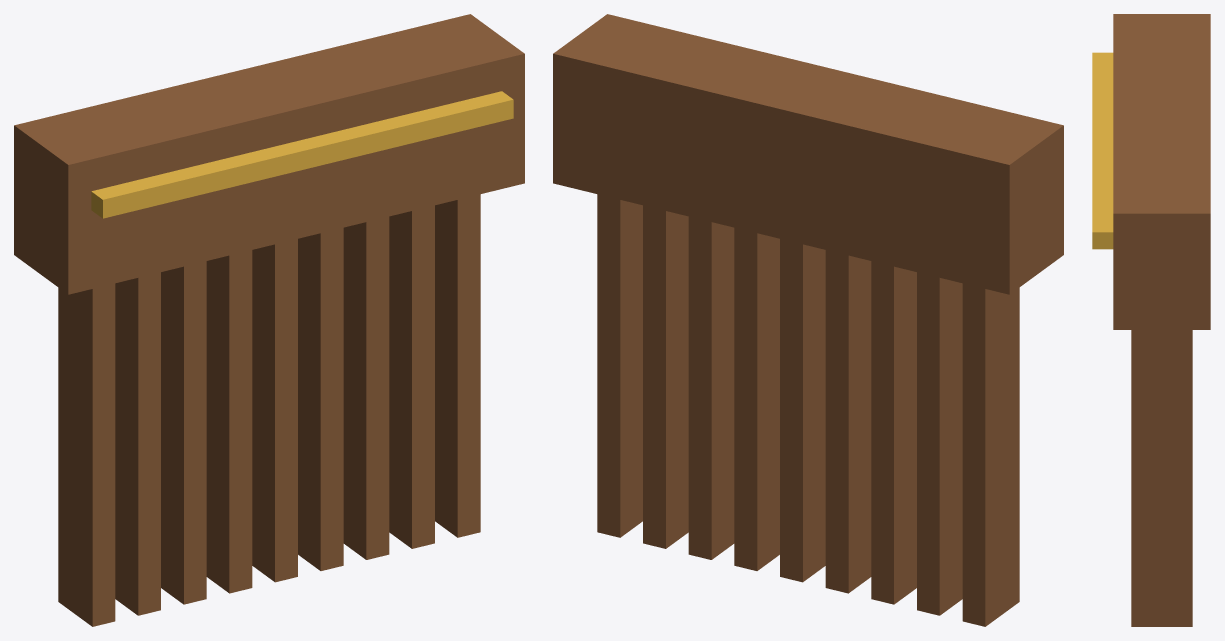
Rendered from reliquia_pente.glb.
3 views of the same model, side by side, from view 1: azimuth 30°, elevation 25°; view 2: azimuth 150°, elevation 25°; view 3: azimuth 270°, elevation 25° (orthographic). The views are drawn at different scales.
Visible parts, largest first — view 1: reliquia_pente; view 2: reliquia_pente; view 3: reliquia_pente.
Boxes of the visible parts, x1,y1,x2,y2 form: reliquia_pente: (14, 14, 524, 626); reliquia_pente: (553, 14, 1063, 626); reliquia_pente: (1092, 14, 1210, 626).
Bounding box in the file's own units: 2 × 2 × 0.5.
